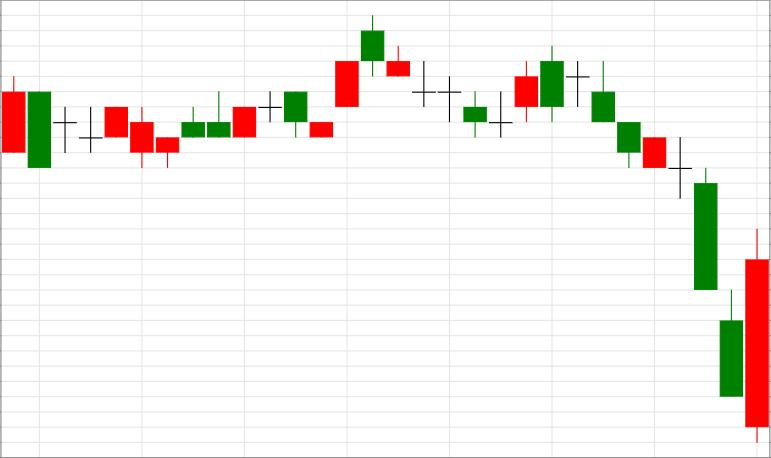bullish_engulfing_rise: (591, 61, 769, 442)
morning_star_rise: (361, 16, 538, 137)
